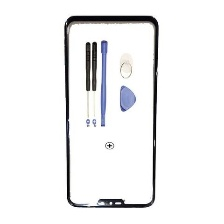phone: (61, 12, 162, 214)
